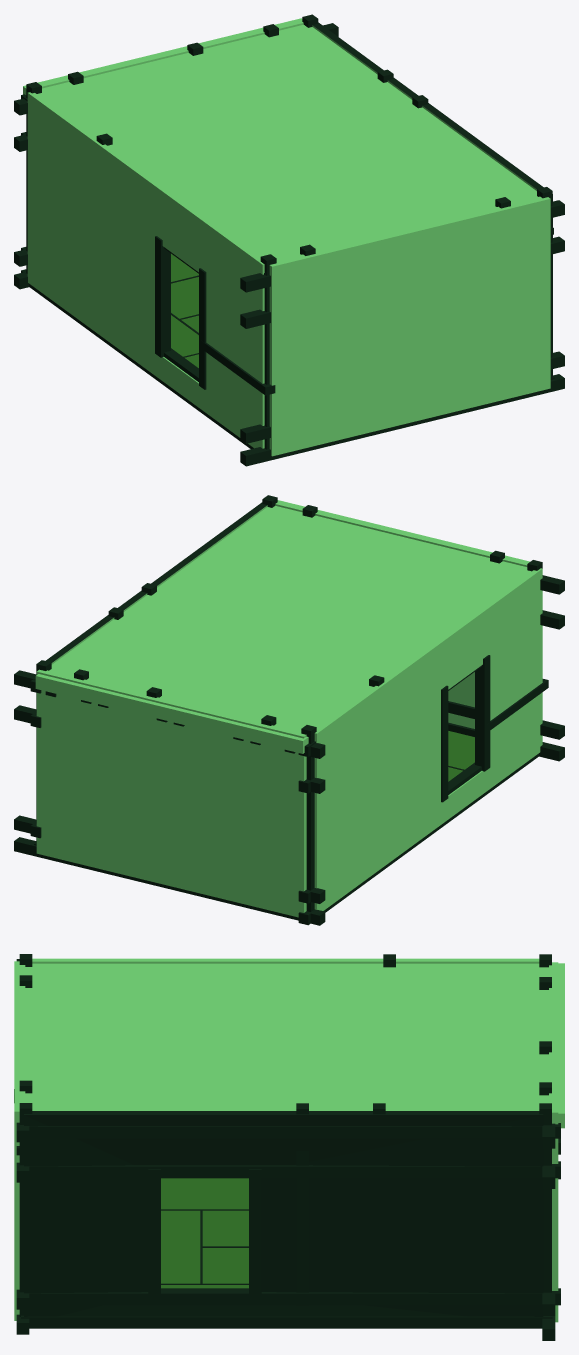
File: RoomConcept.fbx
3 views of the same model, one above another, from view 1: azimuth 30°, elevation 25°; view 2: azimuth 150°, elevation 25°; view 3: azimuth 270°, elevation 25° (orthographic). The views are drawn at different scales.
Visible parts, largest first — view 1: Room; view 2: Room; view 3: Room.
Boxes of the visible parts, x1,y1,x2,y2 form: Room: [14, 14, 564, 466]; Room: [14, 495, 564, 925]; Room: [14, 954, 564, 1340].
Bounding box in the file's own units: 659 × 861 × 380.
